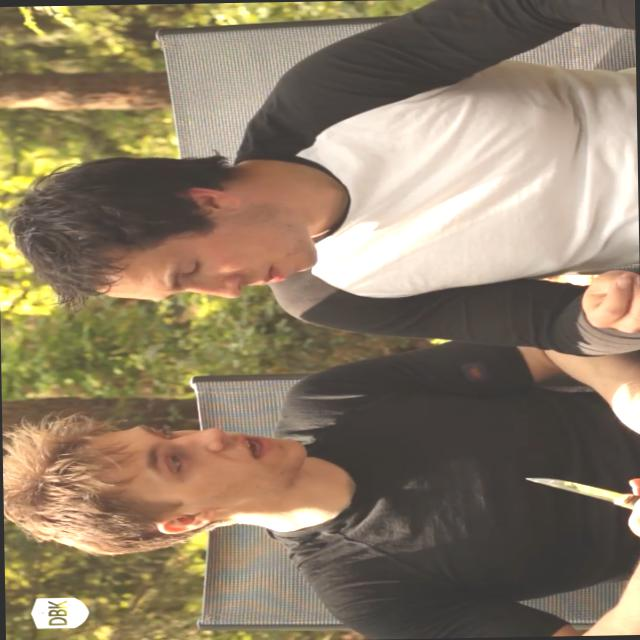knife: (504, 462, 639, 527)
